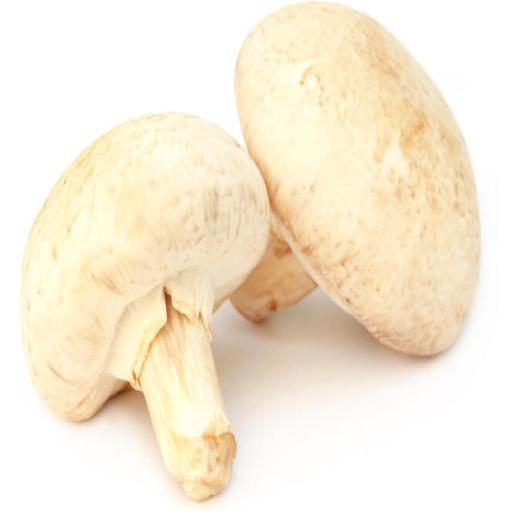mushroom: (12, 105, 271, 509), (224, 0, 485, 364)
